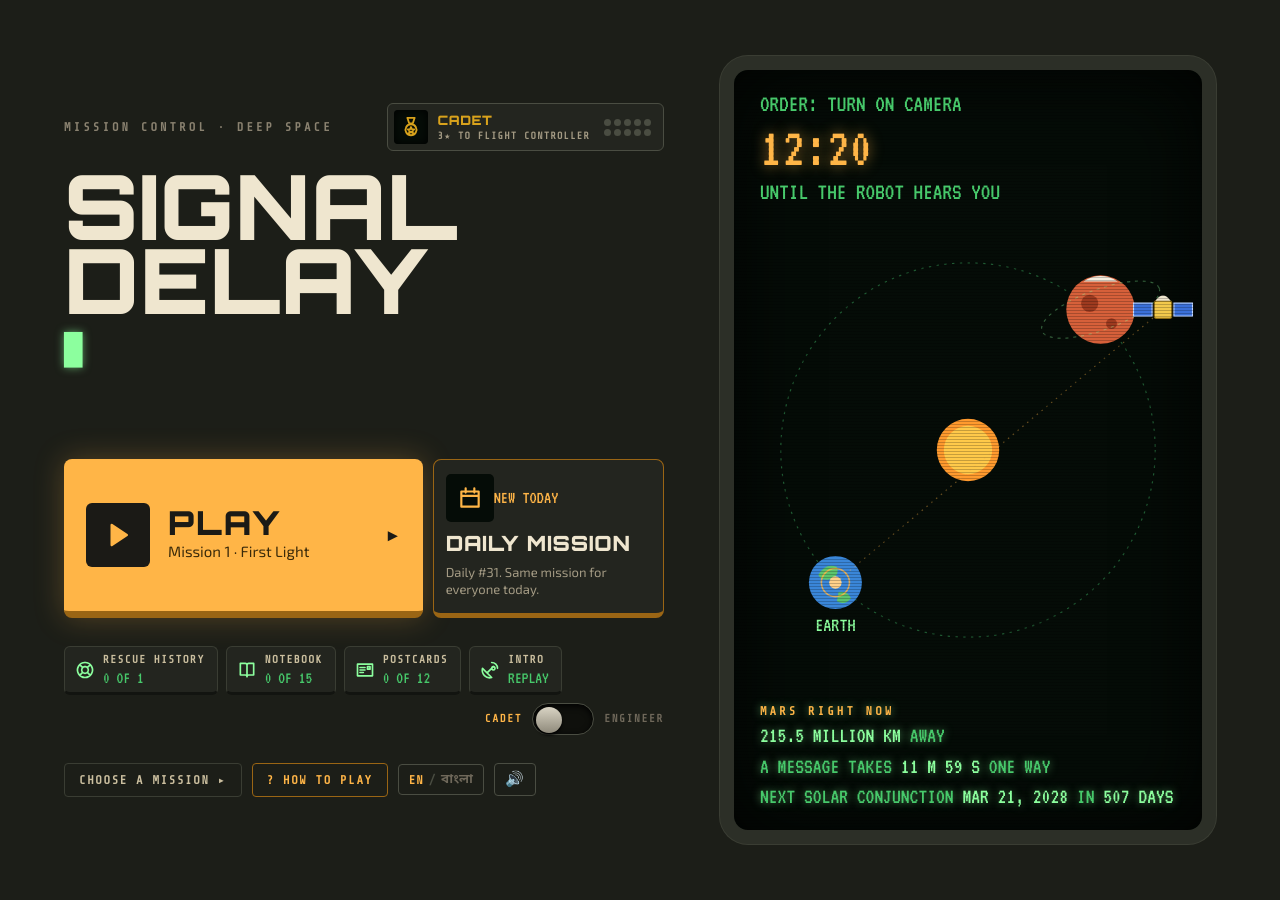
it: Home › the Notebook key opens the Notebook; HOME comes back
The width and height of the screenshot is (1280, 900).
Click the button "NOTEBOOK 0 OF 15".
click(281, 670)  # box [226,646,336,695]
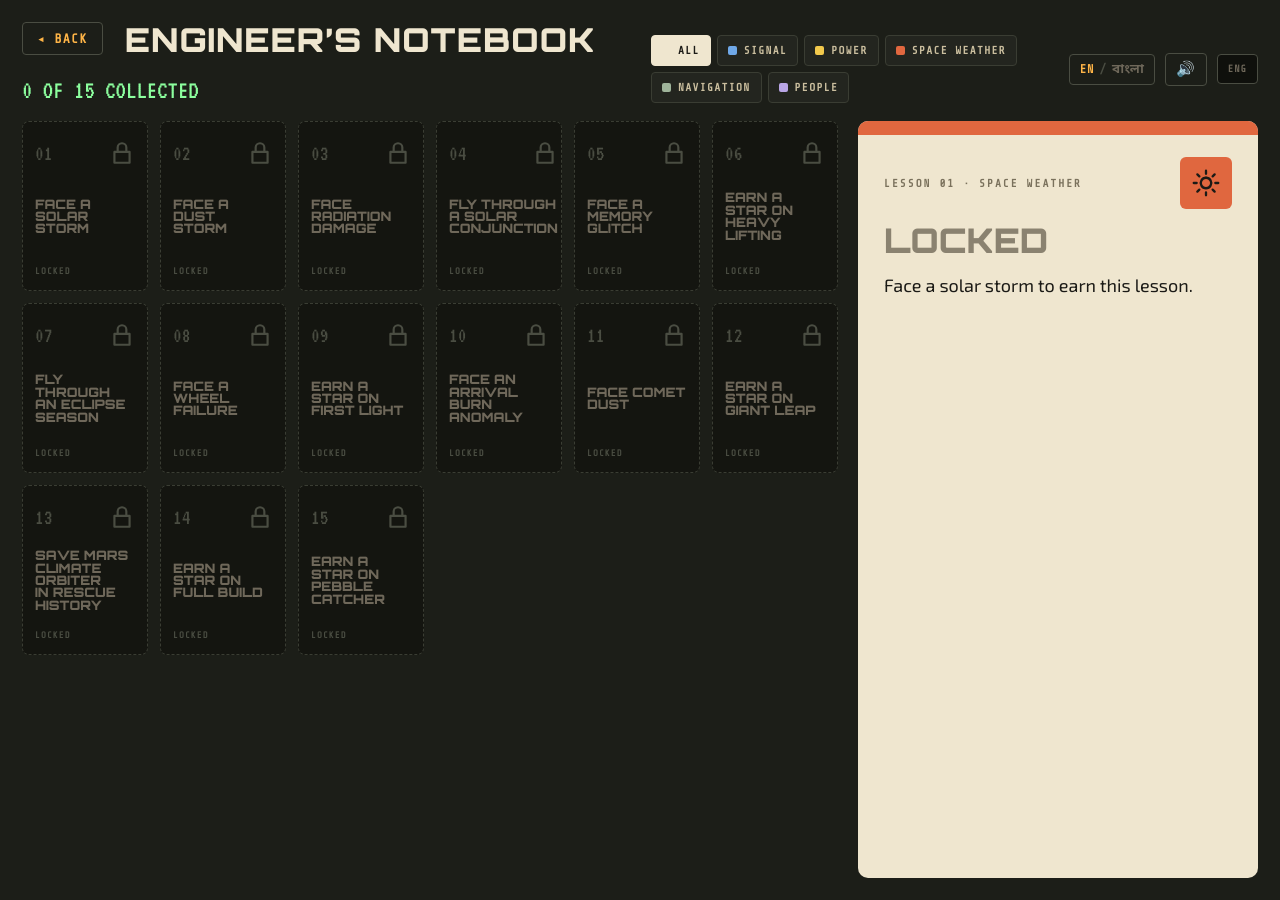
Check: the heading "ENGINEER’S NOTEBOOK" is shown, box [125,25,595,55]
Click the button "◂ BACK".
click(62, 38)  # box [22,22,103,55]
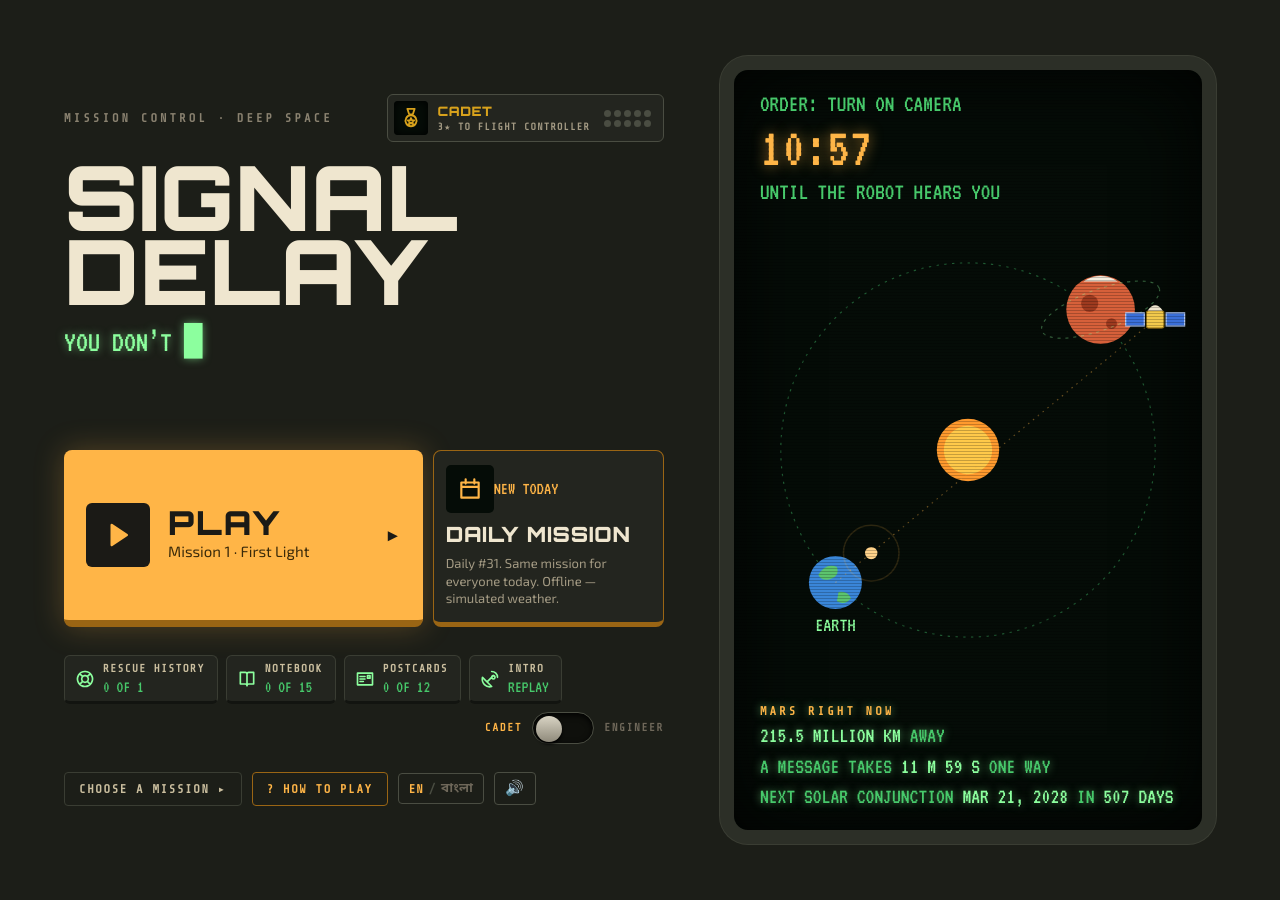
Check: the heading "SIGNALDELAY" is shown, box [64,140,458,327]
